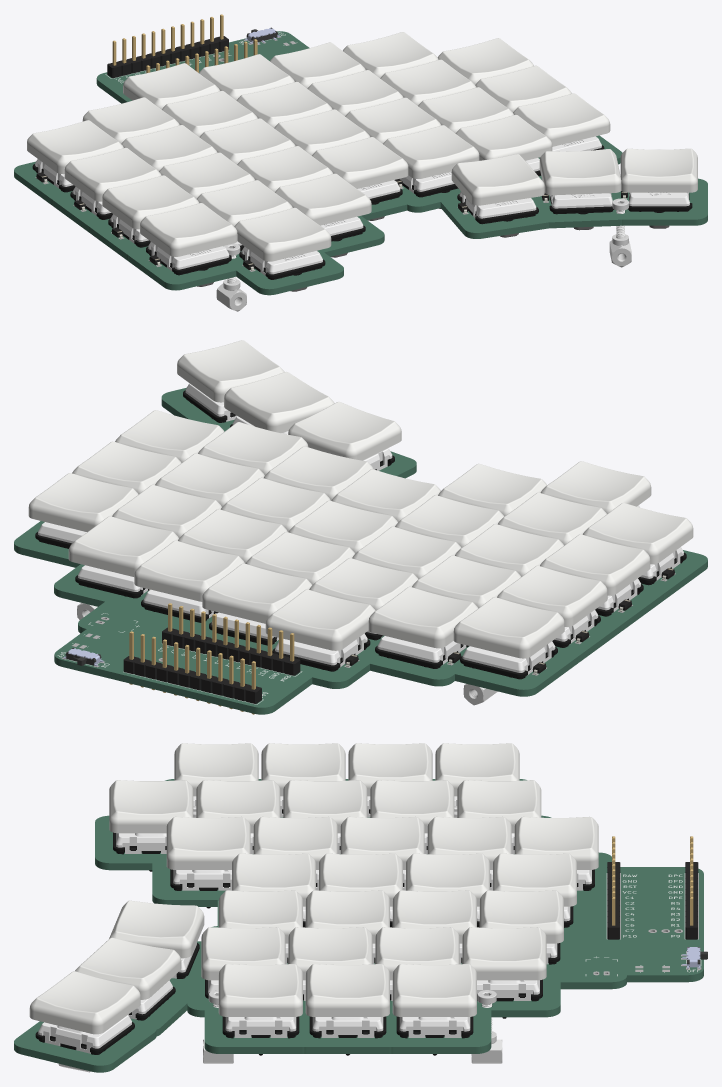
Rendered from left_pcb-3d.glb.
3 renders of one model, top to bottom at view 1: azimuth 30°, elevation 25°; view 2: azimuth 150°, elevation 25°; view 3: azimuth 270°, elevation 25°, orthographic. The views are drawn at different scales.
Parts seen in each view (by area): view 1: =>[0:1:1:15], KC1, KC5, KC30, KC31, KC32, KC27, KC19, KC10, KC15, H2, KC3 (+37 smaller); view 2: =>[0:1:1:15], KC4, KC14, KC9, KC30, KC31, KC22, H2, KC26, KC18, KC29, H1 (+34 smaller); view 3: =>[0:1:1:15], KC32, KC27, KC29, KC28, KC26, KC10, KC5, KC30, KC31, KC14, KC22 (+32 smaller).
Part boxes in pixels (<box>): =>[0:1:1:15]: <box>14,31,707,295</box>; KC1: <box>140,203,237,256</box>; KC5: <box>234,207,331,261</box>; KC30: <box>451,154,544,205</box>; KC31: <box>539,149,621,195</box>; KC32: <box>620,148,697,192</box>; KC27: <box>513,93,610,146</box>; KC19: <box>383,125,479,178</box>; KC10: <box>275,173,371,225</box>; KC15: <box>312,137,408,188</box>; H2: <box>107,14,228,78</box>; KC3: <box>64,147,161,201</box>; =>[0:1:1:15]: <box>14,387,707,714</box>; KC4: <box>453,597,564,658</box>; KC14: <box>265,589,375,650</box>; KC9: <box>368,586,478,648</box>; KC30: <box>288,402,401,460</box>; KC31: <box>224,372,334,432</box>; KC22: <box>134,540,244,601</box>; H2: <box>123,631,261,714</box>; KC26: <box>68,516,178,576</box>; KC18: <box>202,563,312,623</box>; KC29: <box>28,473,138,531</box>; H1: <box>162,603,300,675</box>; =>[0:1:1:15]: <box>14,779,703,1072</box>; KC32: <box>29,971,140,1034</box>; KC27: <box>218,964,302,1016</box>; KC29: <box>392,964,476,1016</box>; KC28: <box>305,964,389,1016</box>; KC26: <box>462,927,546,980</box>; KC10: <box>166,816,250,869</box>; KC5: <box>109,780,193,833</box>; KC30: <box>109,900,204,958</box>; KC31: <box>75,937,181,999</box>; KC14: <box>514,816,598,869</box>; KC22: <box>479,890,563,943</box>.
Bounding box in the file's own units: 133 × 21.93 × 136.
